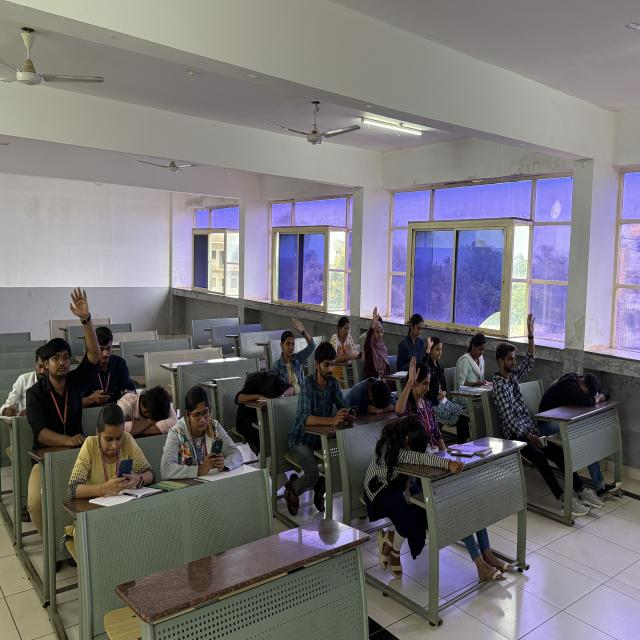Hand Rising: (24, 301, 101, 444), (0, 344, 47, 515), (491, 312, 542, 440), (275, 313, 316, 393), (397, 358, 436, 421), (364, 306, 393, 385), (425, 332, 450, 390)
Reading: (491, 308, 549, 420)
Sleeping: (364, 414, 431, 574), (364, 415, 431, 501), (546, 342, 606, 432), (238, 347, 298, 435), (120, 384, 177, 438), (343, 376, 391, 418)
Using Phone: (47, 400, 156, 496), (160, 388, 241, 485), (290, 340, 345, 452), (295, 339, 360, 428), (87, 324, 139, 406), (452, 325, 496, 387)
